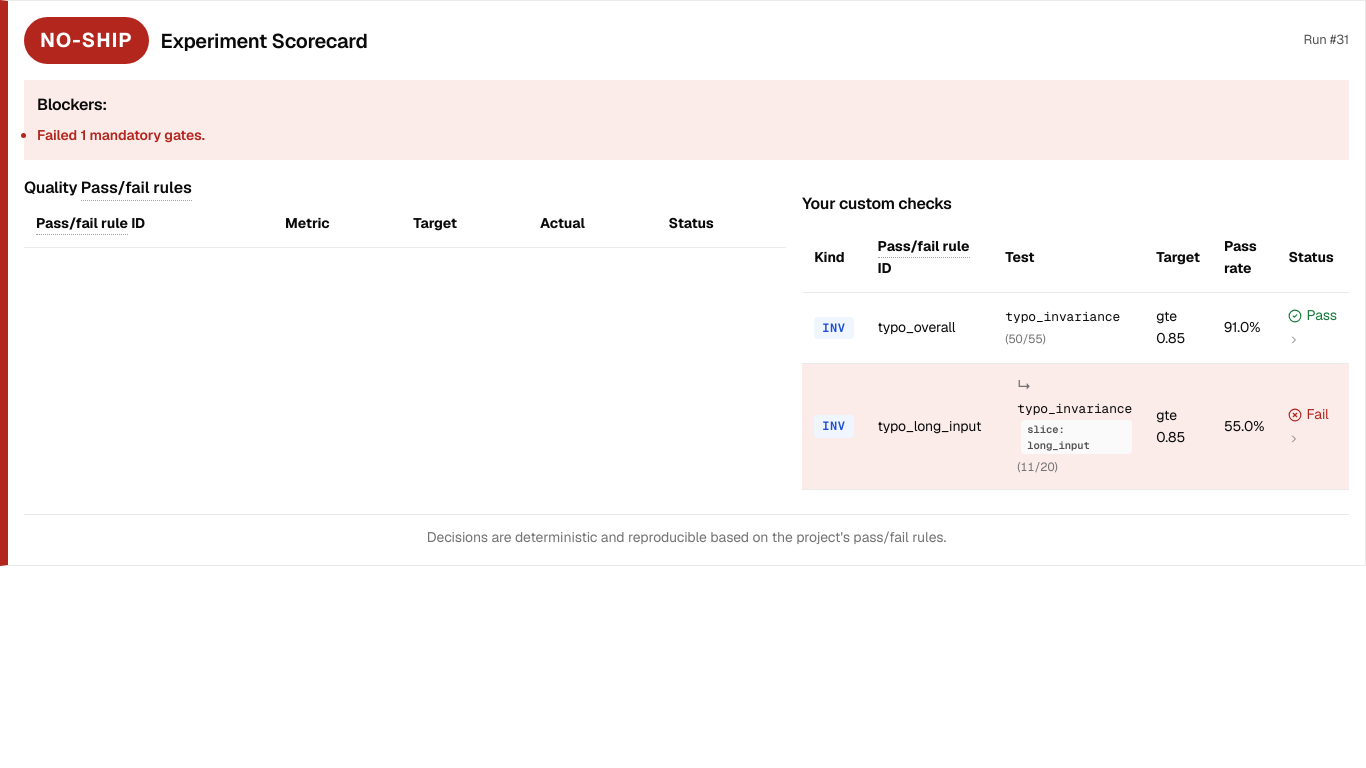
Test case: ScorecardPanel › renders per-slice behavioral gates nested under their parent test with slice id surfaced
The width and height of the screenshot is (1366, 768).
Check: the heading "Your custom checks" is shown, box [802, 193, 952, 214]
Check: the text "slice: long_input" is shown, box [1021, 420, 1132, 454]
Step 1. Click the text "typo_long_input" → point(1076, 427), box [802, 364, 1349, 490]
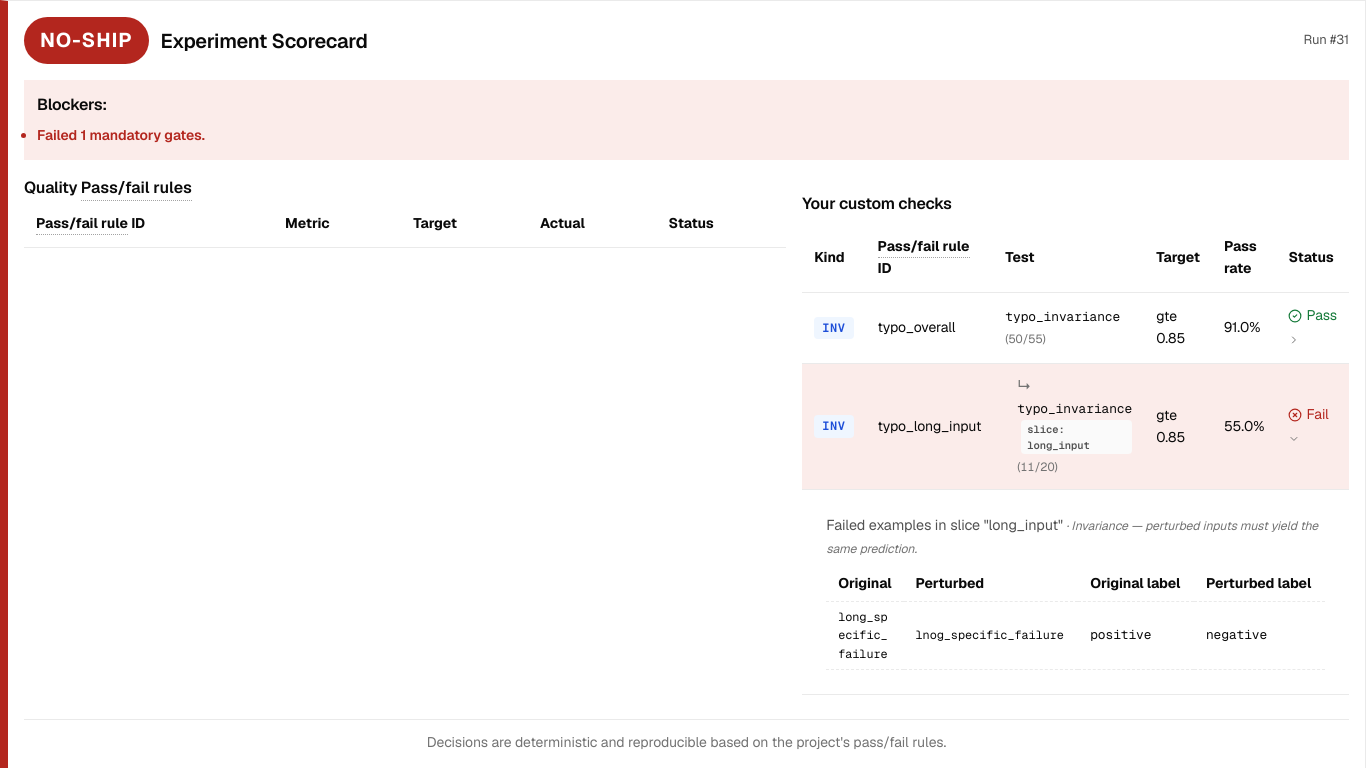
Check: the text "Failed examples in slice \"long_input\"" is shown, box [826, 516, 1063, 534]
Check: the text "long_specific_failure" is shown, box [826, 601, 904, 670]
